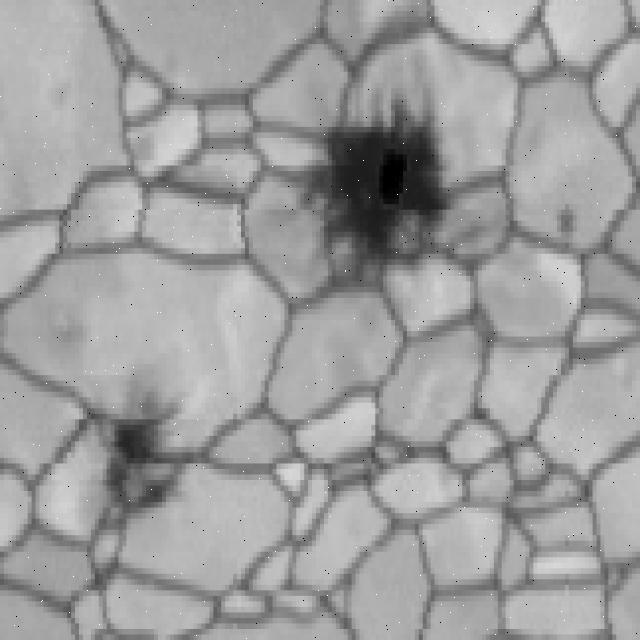good_void: (290, 92, 454, 312), (91, 370, 192, 525), (549, 206, 586, 238)
